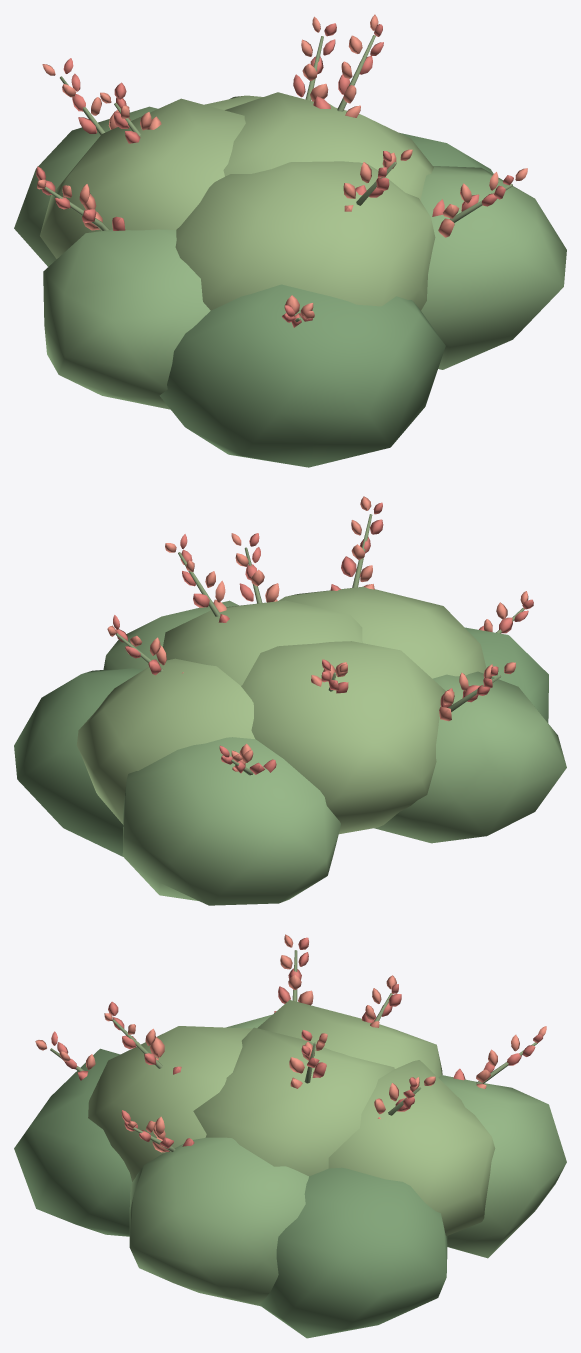
Rendered from ceibo_bush_8.glb.
3 renders of one model, top to bottom at view 1: azimuth 30°, elevation 25°; view 2: azimuth 150°, elevation 25°; view 3: azimuth 270°, elevation 25°, orthographic. The views are drawn at different scales.
Parts seen in each view (by area): view 1: CeiboLeafL, CeiboLeafM, CeiboLeafD, CeiboPetal, CeiboFlower, CeiboWood; view 2: CeiboLeafL, CeiboLeafM, CeiboLeafD, CeiboFlower, CeiboPetal, CeiboWood; view 3: CeiboLeafL, CeiboLeafD, CeiboLeafM, CeiboPetal, CeiboFlower, CeiboWood.
Part boxes in pixels (x1=…): CeiboLeafL: x1=40, y1=92, x2=435, y2=310; CeiboLeafM: x1=14, y1=106, x2=566, y2=409; CeiboLeafD: x1=159, y1=132, x2=493, y2=467; CeiboPetal: x1=37, y1=14, x2=527, y2=319; CeiboFlower: x1=36, y1=23, x2=513, y2=327; CeiboWood: x1=44, y1=35, x2=512, y2=321; CeiboLeafL: x1=76, y1=586, x2=486, y2=834; CeiboLeafM: x1=103, y1=600, x2=566, y2=905; CeiboLeafD: x1=14, y1=627, x2=548, y2=856; CeiboFlower: x1=113, y1=502, x2=533, y2=774; CeiboPetal: x1=107, y1=496, x2=528, y2=771; CeiboWood: x1=115, y1=514, x2=524, y2=775; CeiboLeafL: x1=88, y1=1000, x2=495, y2=1235; CeiboLeafD: x1=14, y1=1048, x2=447, y2=1338; CeiboLeafM: x1=129, y1=1014, x2=566, y2=1306; CeiboPetal: x1=35, y1=934, x2=546, y2=1152; CeiboFlower: x1=51, y1=937, x2=542, y2=1148; CeiboWood: x1=50, y1=950, x2=537, y2=1152.
Bounding box in the file's own units: 1.92 × 1.15 × 2.06.
